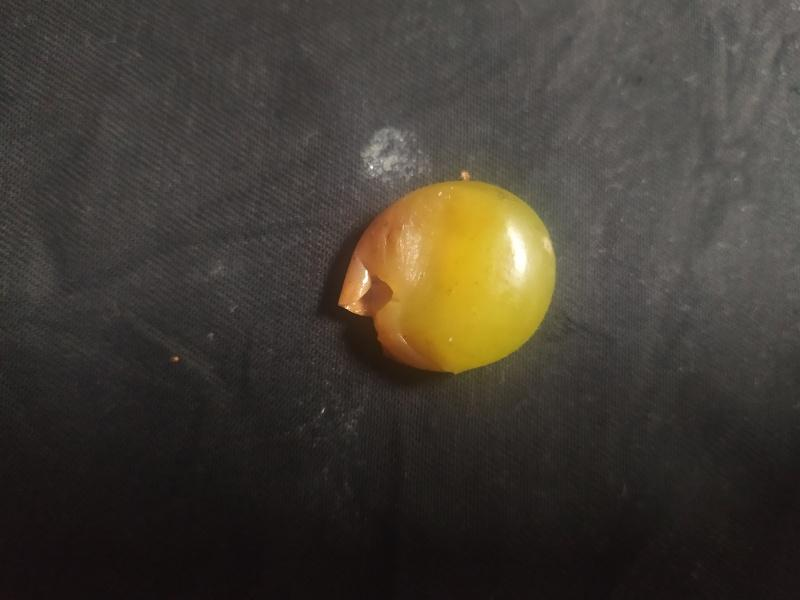Grape Overripe: (337, 175, 559, 376)
